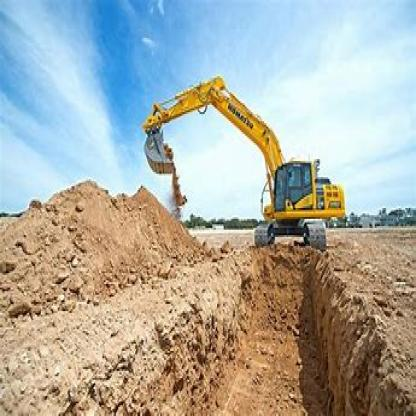excavator: (138, 63, 348, 259)
